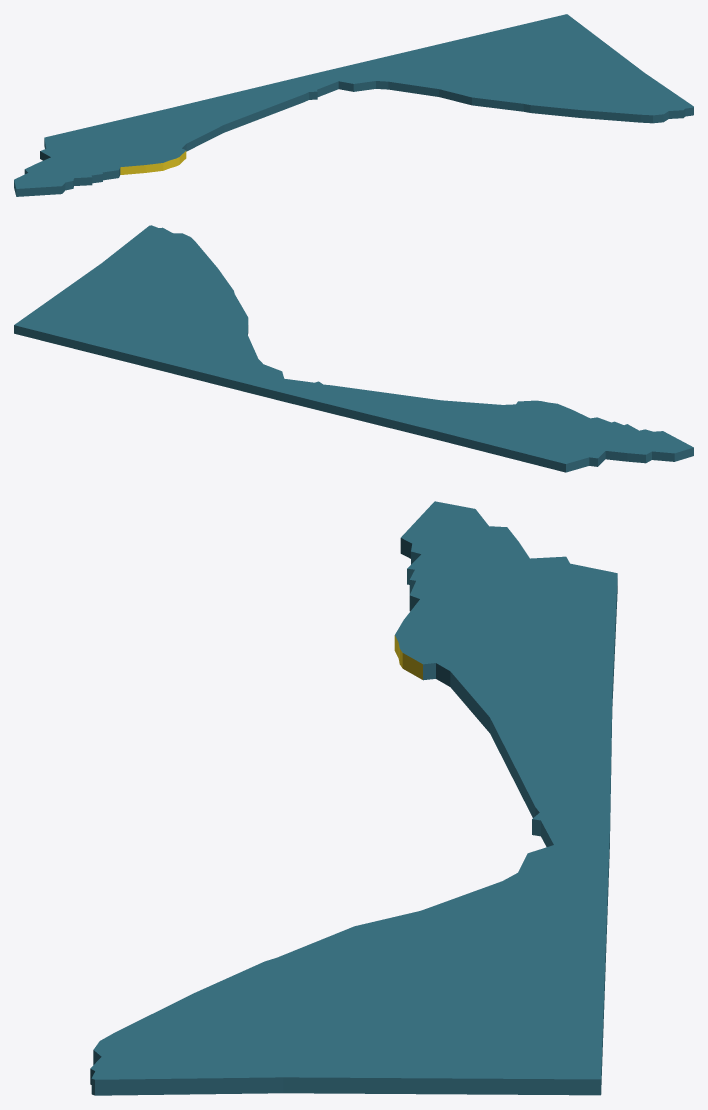
File: bay.glb
3 views of the same model, one above another, from view 1: azimuth 30°, elevation 25°; view 2: azimuth 150°, elevation 25°; view 3: azimuth 270°, elevation 25° (orthographic). The views are drawn at different scales.
Parts seen in each view (by area): view 1: bay; view 2: bay; view 3: bay.
Boxes of the visible parts, x1,y1,x2,y2 form: bay: [14, 14, 693, 196]; bay: [14, 225, 693, 472]; bay: [90, 501, 617, 1095].
Bounding box in the file's own units: 3.48 × 0.0446 × 1.34.
